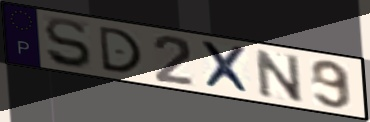2: (150, 34, 197, 89)
9: (309, 59, 352, 110)
D: (96, 24, 144, 75)
N: (252, 47, 306, 104)
S: (42, 17, 95, 70)
X: (198, 39, 255, 97)
